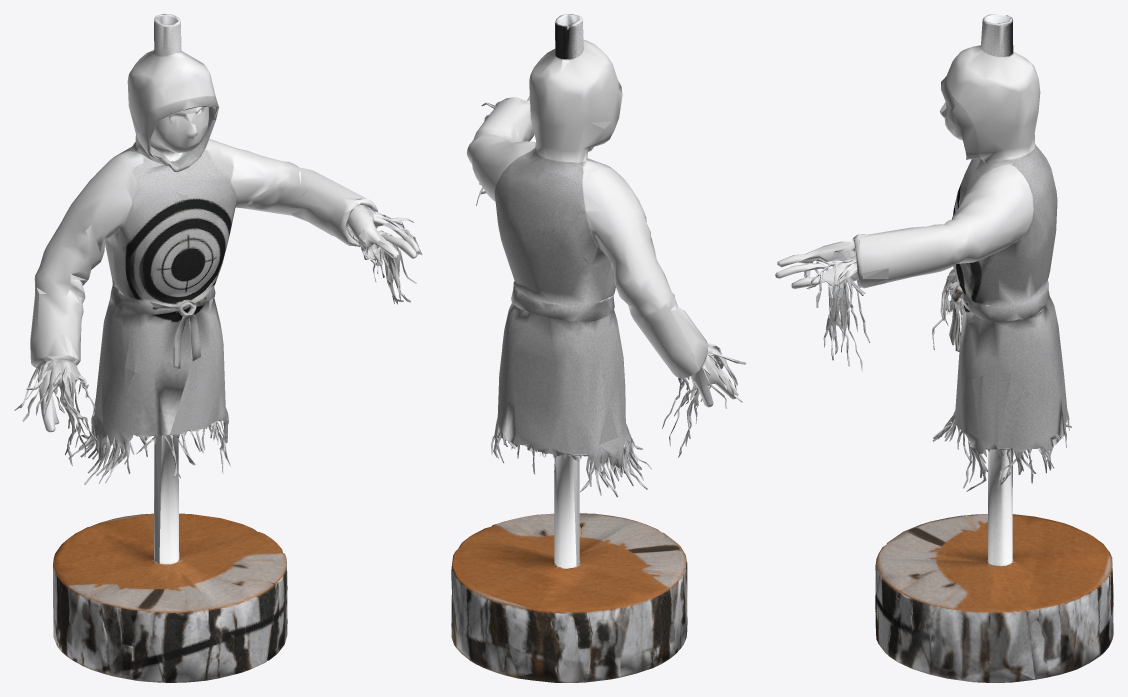
The model's file is CibleHumaine.fbx.
3 renders of one model, left to right at view 1: azimuth 30°, elevation 25°; view 2: azimuth 150°, elevation 25°; view 3: azimuth 270°, elevation 25°, orthographic.
Parts seen in each view (by area): view 1: output_unwrapped; view 2: output_unwrapped; view 3: output_unwrapped.
Part boxes in pixels (x1,y1,x2,y2): output_unwrapped: (14,14,422,682); output_unwrapped: (451,14,746,682); output_unwrapped: (775,14,1113,682).
Bounding box in the file's own units: 107 × 190 × 95.05.
Materials: 1 (1 with a texture image).
